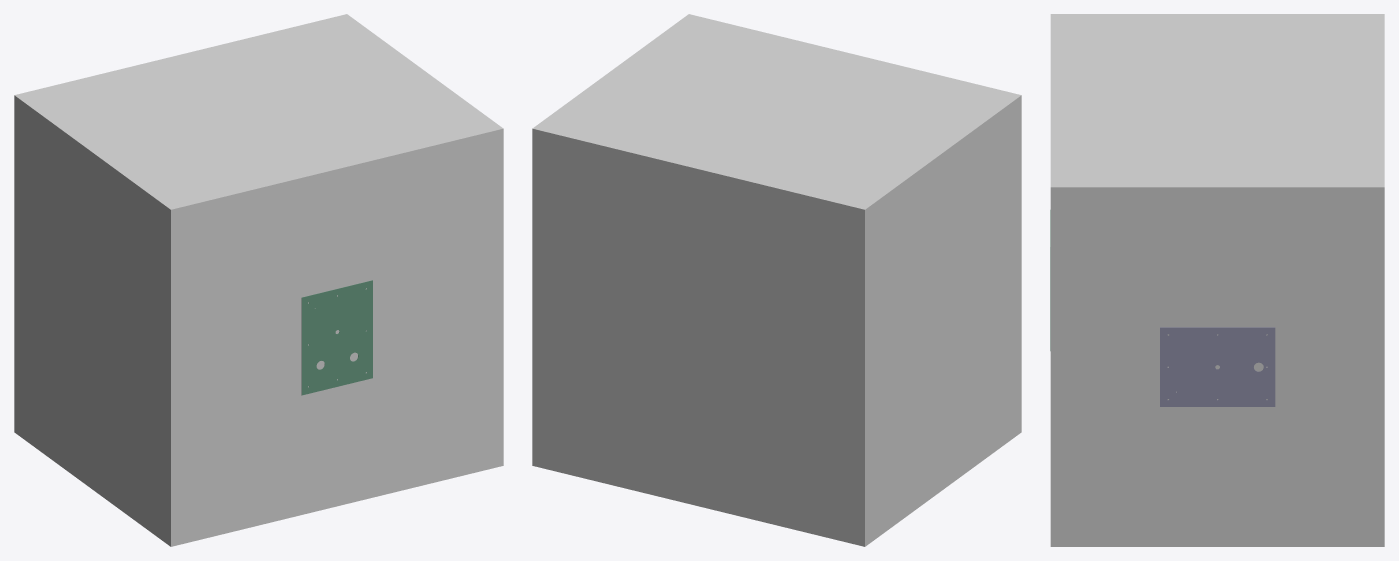
Rendered from assembly.glb.
The picture shows the model from 3 angles, left to right: view 1: azimuth 30°, elevation 25°; view 2: azimuth 150°, elevation 25°; view 3: azimuth 270°, elevation 25°; orthographic projection. The views are drawn at different scales.
Visible parts, largest first — view 1: container_shell, ARC-PLT-CD; view 2: container_shell; view 3: container_shell, ARC-PLT-CG.
Boxes of the visible parts, <box> form: container_shell: <box>14,14,503,546</box>; ARC-PLT-CD: <box>301,280,372,395</box>; container_shell: <box>532,14,1021,546</box>; container_shell: <box>1050,14,1384,546</box>; ARC-PLT-CG: <box>1160,327,1275,406</box>.
Size of the model in its own units: 2994 by 2896 by 2441.
